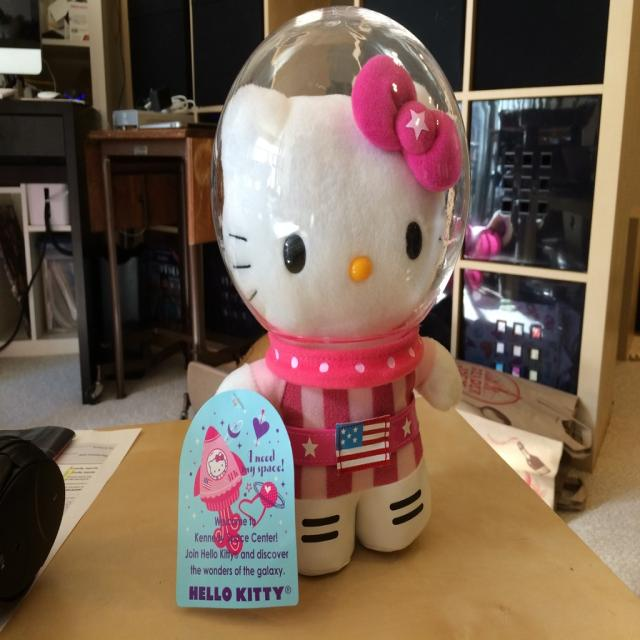Toy: (213, 7, 473, 580)
